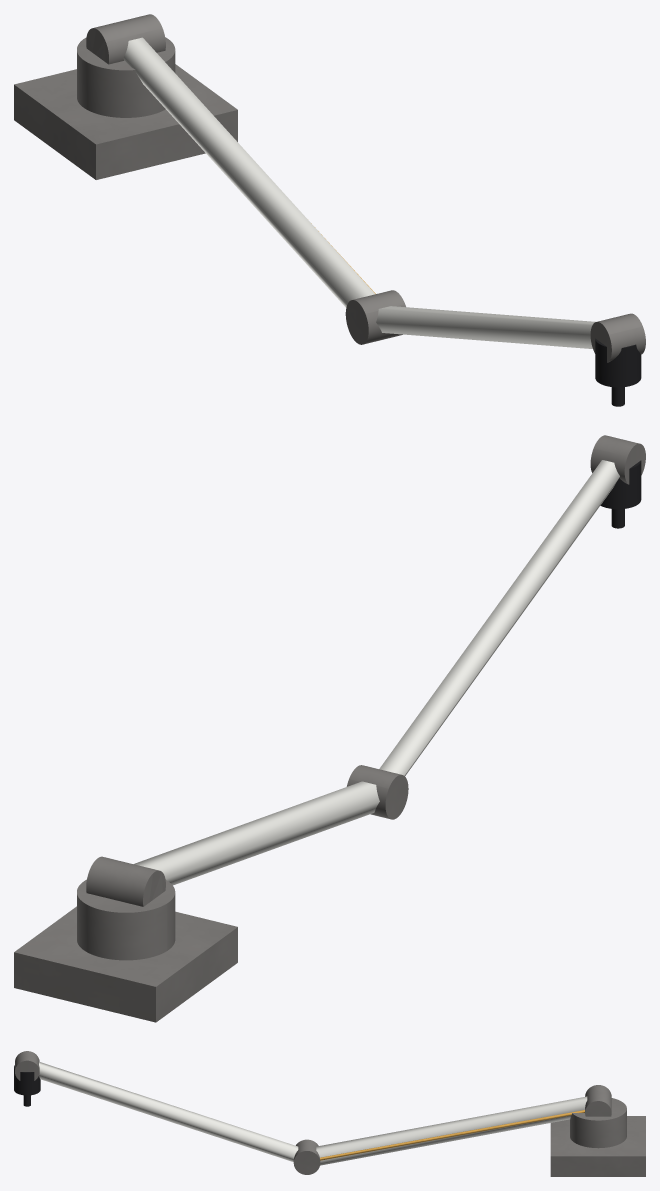
File: rover30_robotic_arm_m_deployed.glb
3 renders of one model, top to bottom at view 1: azimuth 30°, elevation 25°; view 2: azimuth 150°, elevation 25°; view 3: azimuth 270°, elevation 25°, orthographic. The views are drawn at different scales.
Parts seen in each view (by area): view 1: base, arm_link1, arm_turret, arm_link2, arm_tool, arm_elbow, arm_wrist; view 2: base, arm_link2, arm_turret, arm_link1, arm_elbow, arm_wrist, arm_tool; view 3: arm_link1, arm_link2, base, arm_turret, arm_cable, arm_elbow, arm_tool, arm_wrist.
Part boxes in pixels (bbox=[...]): base: bbox=[14, 64, 237, 179]; arm_link1: bbox=[123, 37, 375, 307]; arm_turret: bbox=[77, 14, 175, 117]; arm_link2: bbox=[376, 306, 595, 348]; arm_tool: bbox=[595, 338, 641, 406]; arm_elbow: bbox=[345, 290, 405, 344]; arm_wrist: bbox=[590, 313, 645, 362]; base: bbox=[14, 906, 237, 1022]; arm_link2: bbox=[379, 460, 619, 775]; arm_turret: bbox=[77, 856, 175, 960]; arm_link1: bbox=[133, 781, 379, 885]; arm_elbow: bbox=[346, 765, 408, 819]; arm_wrist: bbox=[590, 435, 645, 484]; arm_tool: bbox=[600, 460, 641, 528]; arm_link1: bbox=[316, 1096, 587, 1165]; arm_link2: bbox=[39, 1061, 298, 1161]; base: bbox=[550, 1116, 645, 1176]; arm_turret: bbox=[570, 1085, 626, 1148]; arm_cable: bbox=[320, 1110, 584, 1160]; arm_elbow: bbox=[293, 1139, 320, 1174]; arm_tool: bbox=[14, 1065, 40, 1106]; arm_wrist: bbox=[15, 1051, 39, 1080].
Size of the model in its own units: 0.5 by 0.6579 by 3.32.
4 materials, 2 textured.
